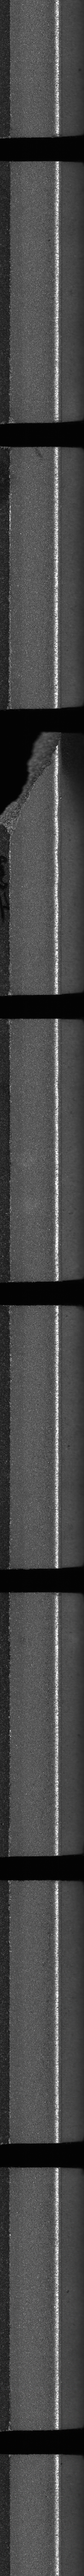Chip: (0, 726, 64, 848)
